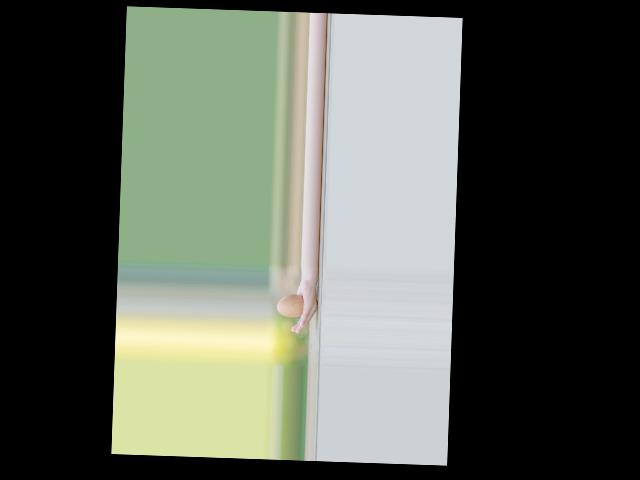egg: (276, 292, 304, 317)
